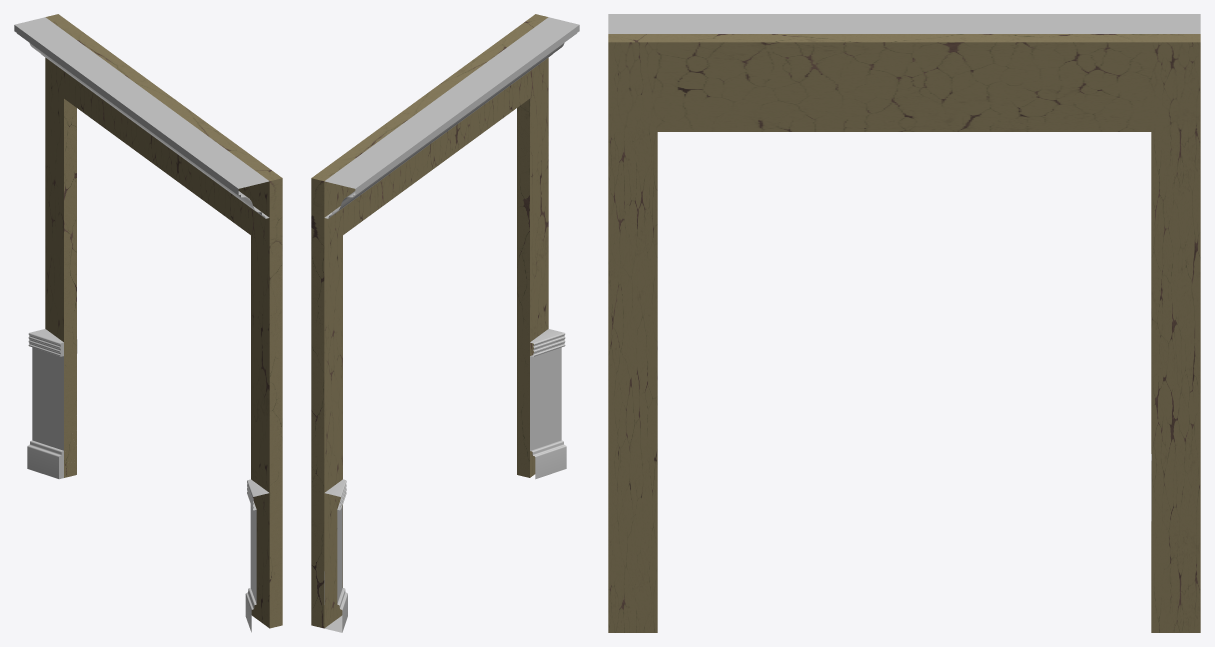
Rendered from Wall_3m_Doorway_B2 1.fbx.
3 views of the same model, side by side, from view 1: azimuth 30°, elevation 25°; view 2: azimuth 150°, elevation 25°; view 3: azimuth 270°, elevation 25° (orthographic). The views are drawn at different scales.
Visible parts, largest first — view 1: Wall_3m_Doorway_B.001; view 2: Wall_3m_Doorway_B.001; view 3: Wall_3m_Doorway_B.001.
Part boxes in pixels (x1=…): Wall_3m_Doorway_B.001: x1=14, y1=14, x2=282, y2=632; Wall_3m_Doorway_B.001: x1=311, y1=14, x2=579, y2=632; Wall_3m_Doorway_B.001: x1=608, y1=14, x2=1200, y2=632.
Bounding box in the file's own units: 0.3411 × 3.3 × 3.
